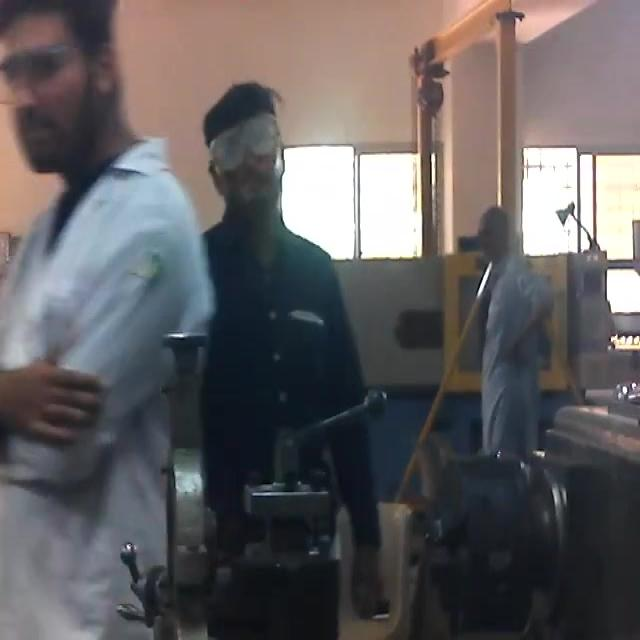googles: (203, 125, 295, 175)
labcoat: (0, 134, 210, 640)
